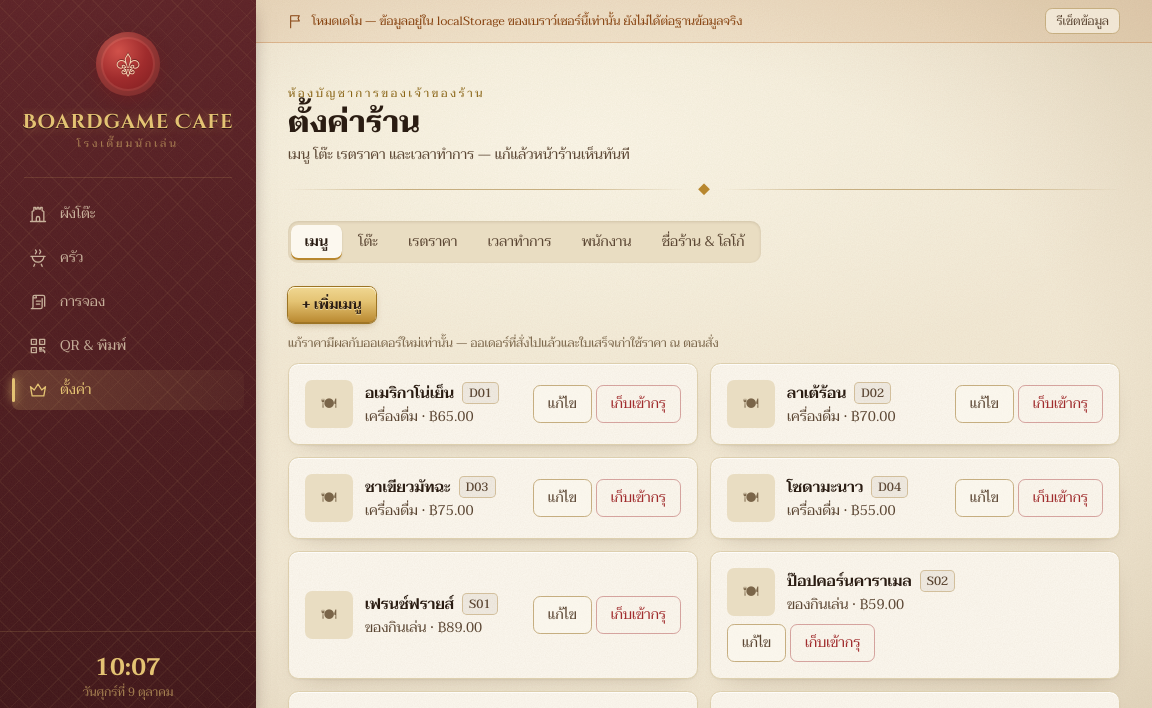
หน้าจัดการพนักงาน › เพิ่มบัญชีผ่านหน้าจอแล้วบันทึกจริง
The width and height of the screenshot is (1152, 708).
Click the button "พนักงาน" at (607, 242), box [568,225,645,260]
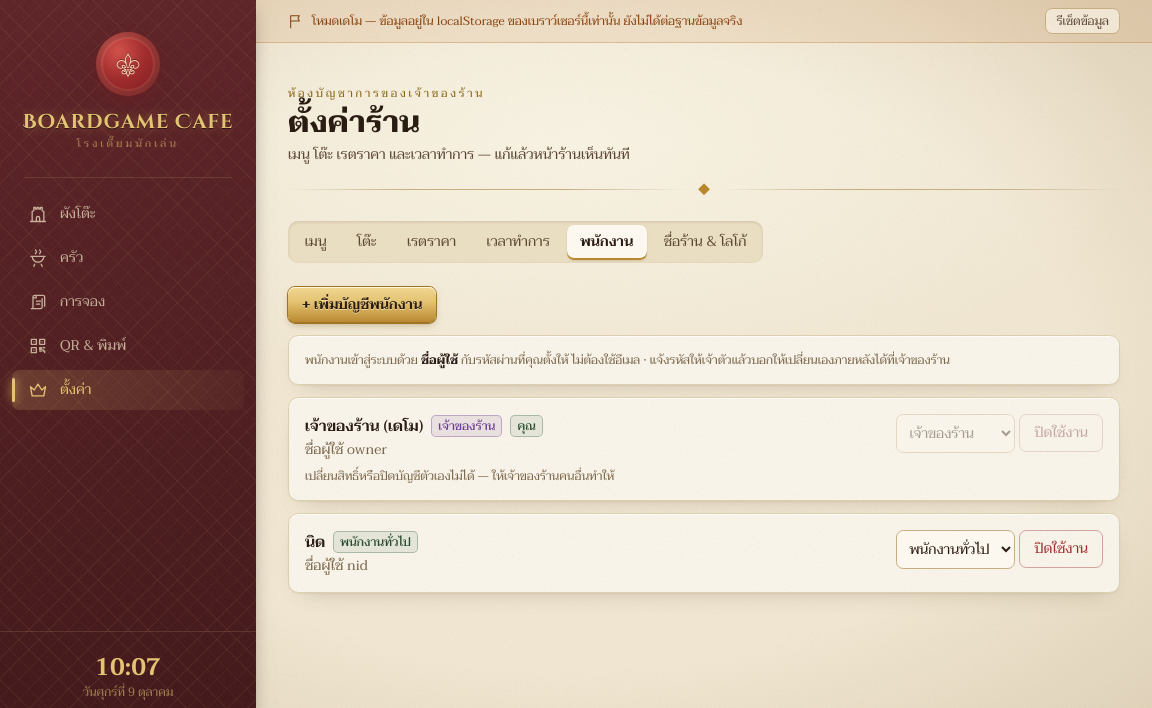
Click the button "+ เพิ่มบัญชีพนักงาน" at (362, 305), box [288,287,436,323]
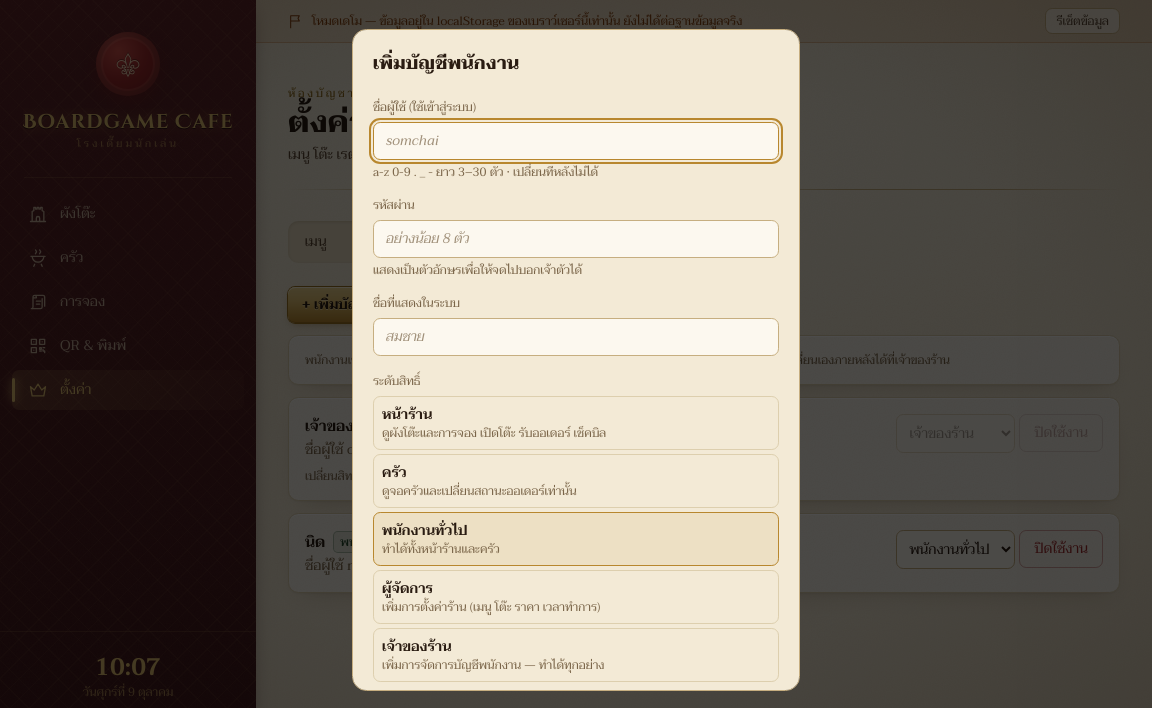
Type "malee" into the field with placeholder "somchai" at (576, 141), box [373,122,779,160]
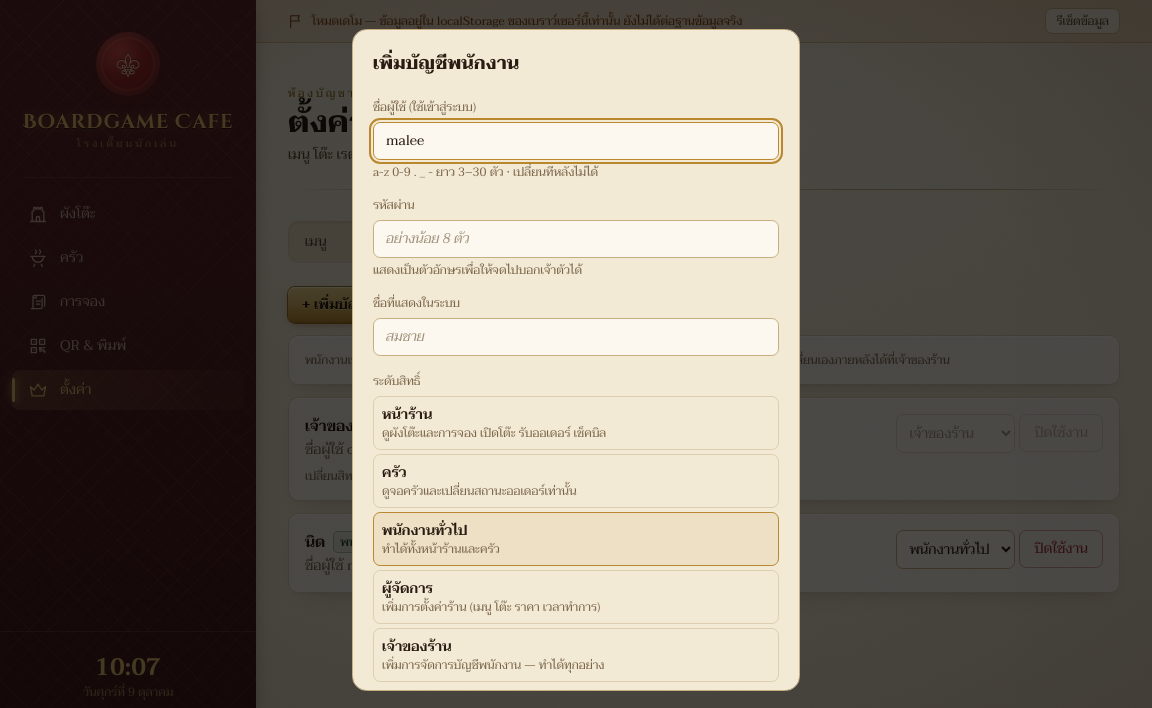
Type "secret123" into the field with placeholder "อย่างน้อย 8 ตัว" at (576, 239), box [373,220,779,258]
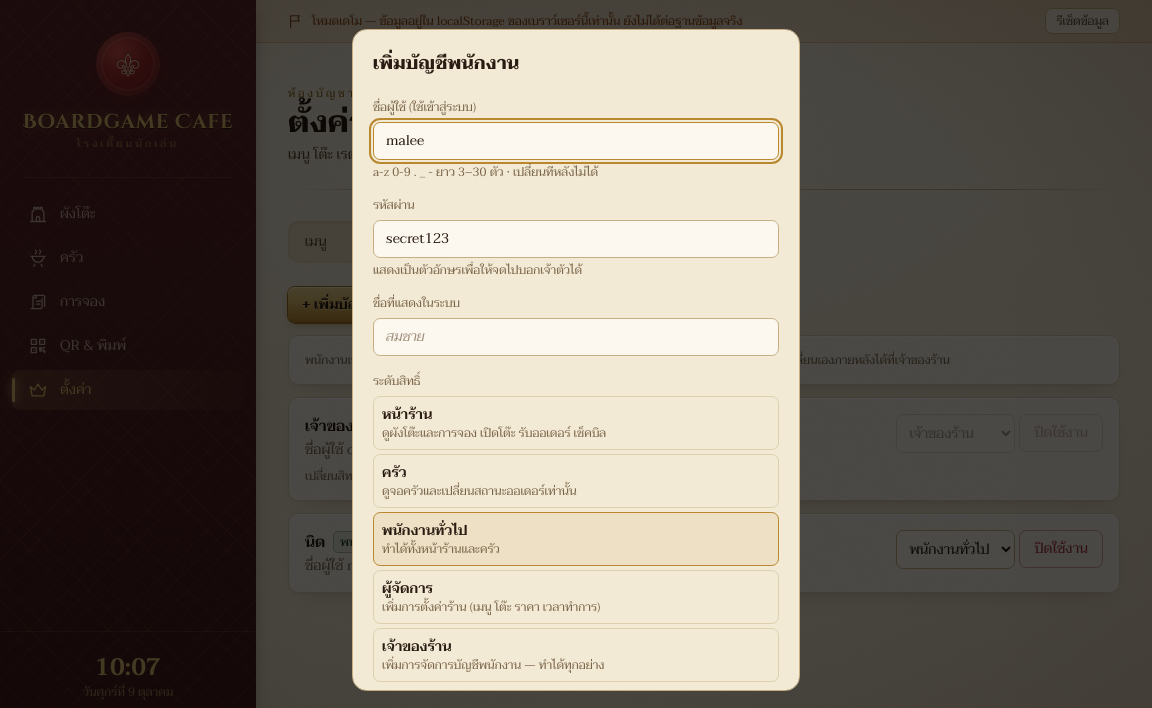
Type "มาลี" into the field with placeholder "สมชาย" at (576, 337), box [373,318,779,356]
(page scrolled)
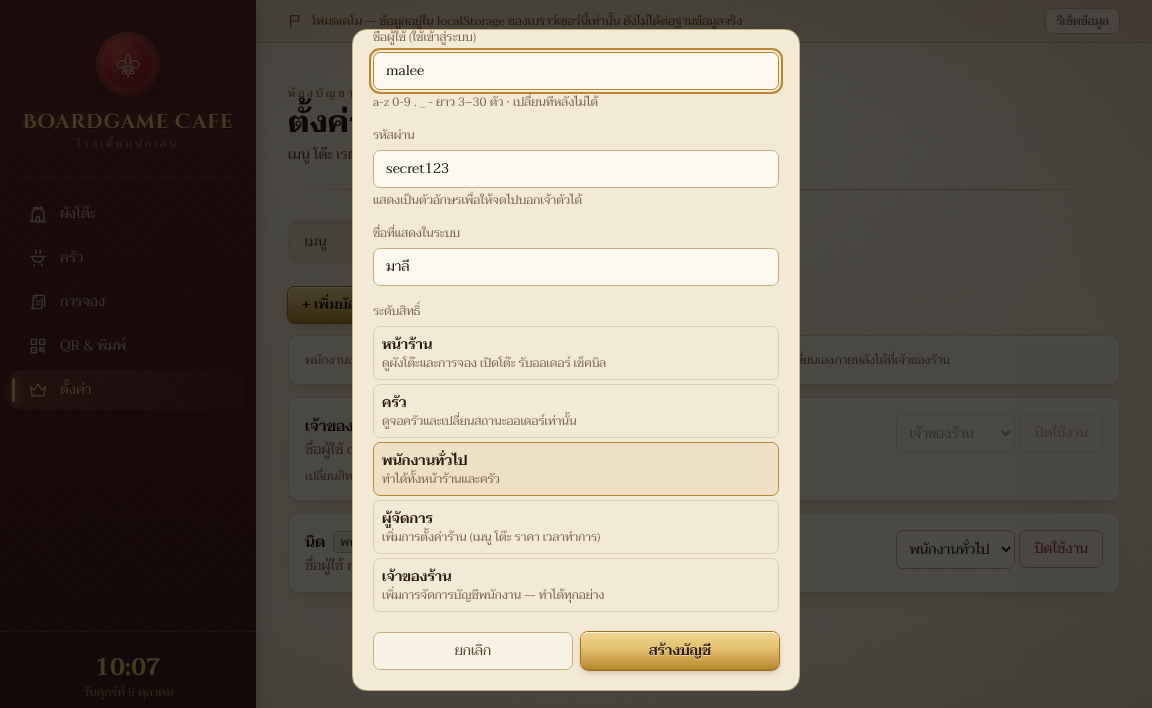
Click the button "สร้างบัญชี" at (680, 651), box [581,632,779,670]
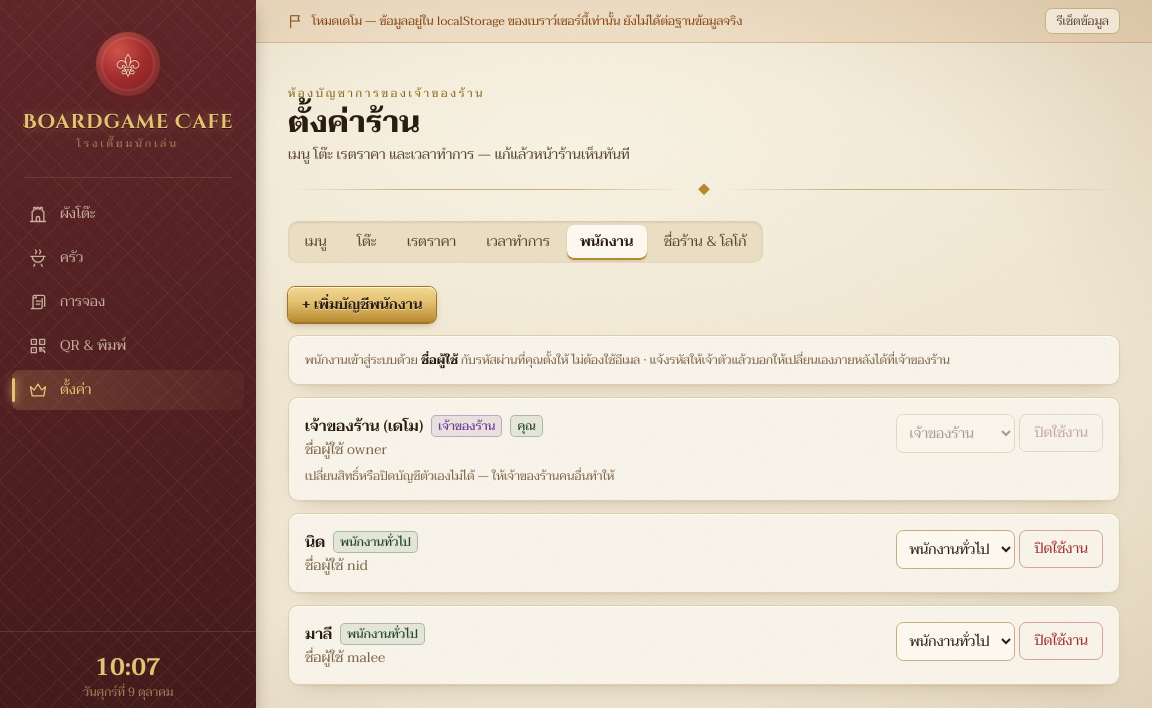
Now the text "มาลี" is shown, box [305,622,332,646]
